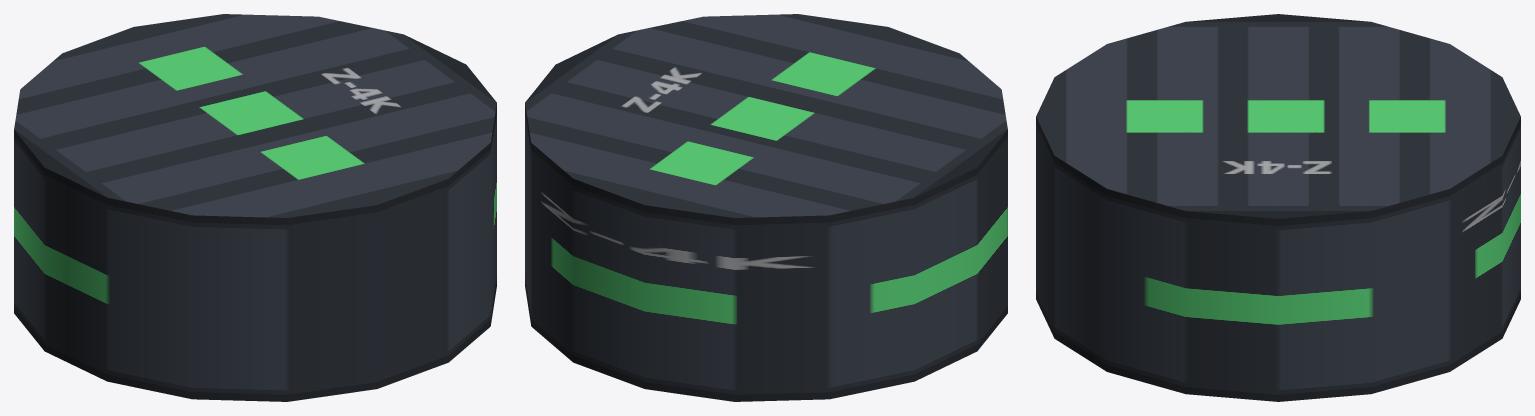
File: util-battery_z-4k-battery-bank.glb
3 renders of one model, left to right at view 1: azimuth 30°, elevation 25°; view 2: azimuth 150°, elevation 25°; view 3: azimuth 270°, elevation 25°, orthographic.
Parts seen in each view (by area): view 1: Z-4K Battery Bank; view 2: Z-4K Battery Bank; view 3: Z-4K Battery Bank.
Part boxes in pixels (bbox=[...]): Z-4K Battery Bank: bbox=[14, 14, 496, 401]; Z-4K Battery Bank: bbox=[525, 14, 1007, 401]; Z-4K Battery Bank: bbox=[1036, 14, 1520, 401].
Bounding box in the file's own units: 1.2 × 0.5 × 1.2.
Materials: 1 (1 with a texture image).
